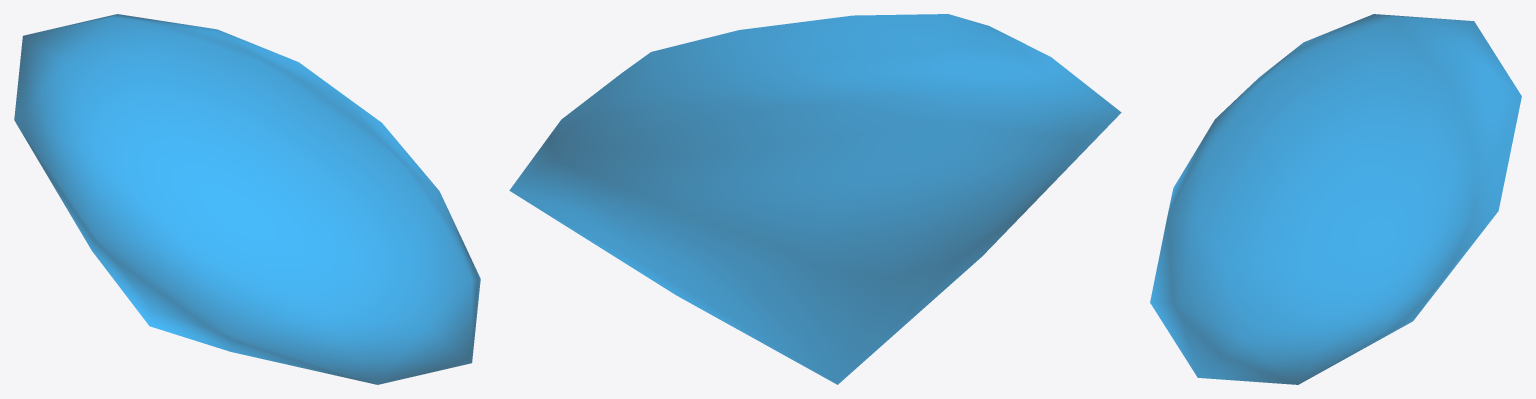
Rendered from crystalBlue.fbx.
3 renders of one model, left to right at view 1: azimuth 30°, elevation 25°; view 2: azimuth 150°, elevation 25°; view 3: azimuth 270°, elevation 25°, orthographic. The views are drawn at different scales.
Parts seen in each view (by area): view 1: Gem; view 2: Gem; view 3: Gem.
Part boxes in pixels (x1,y1,x2,y2): Gem: (14,14,480,384); Gem: (509,14,1121,384); Gem: (1150,14,1521,384).
Bounding box in the file's own units: 2.07 × 1.35 × 1.85.
